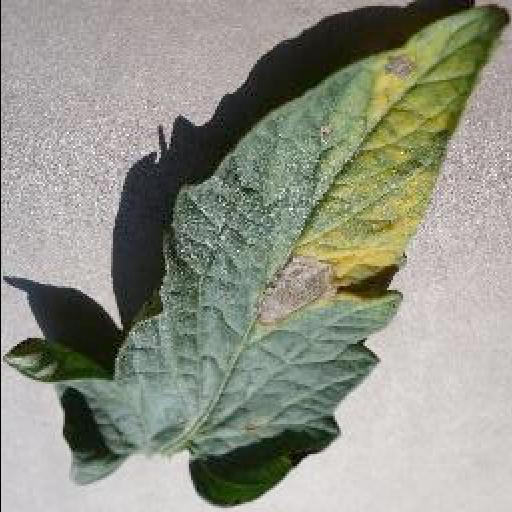disease_tomato: (2, 7, 510, 508)
